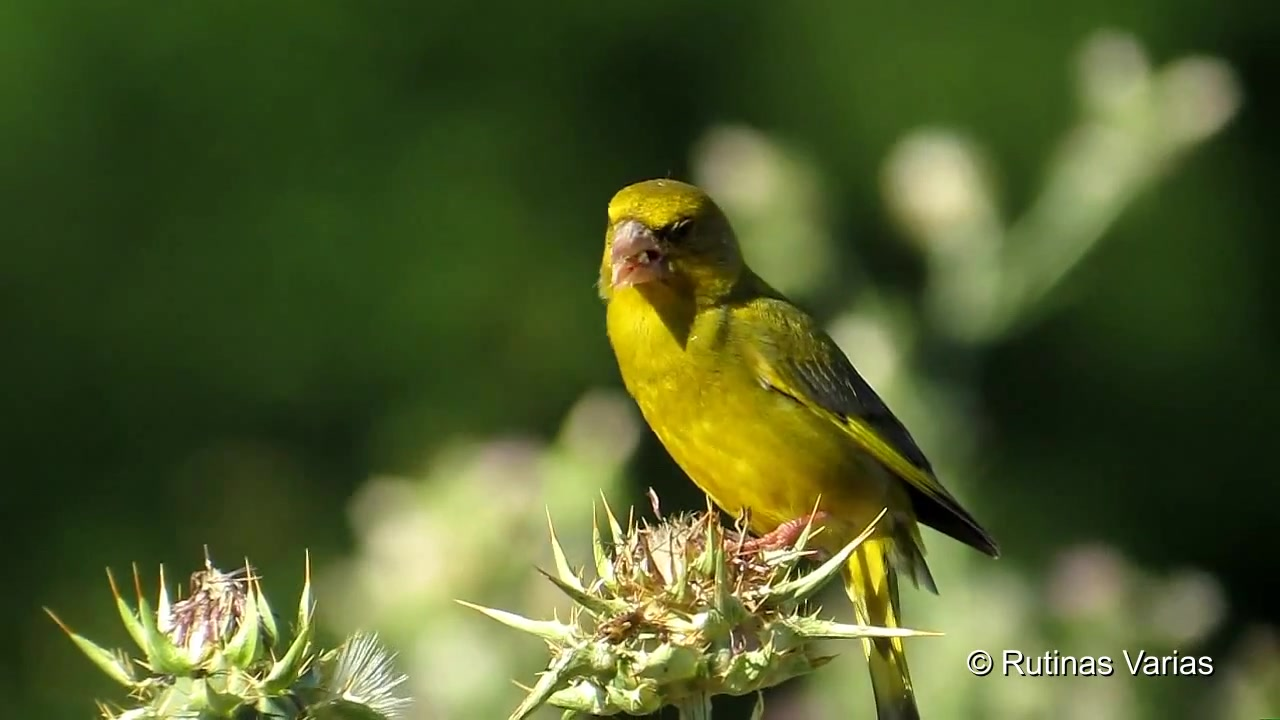bird: (598, 177, 1004, 720)
